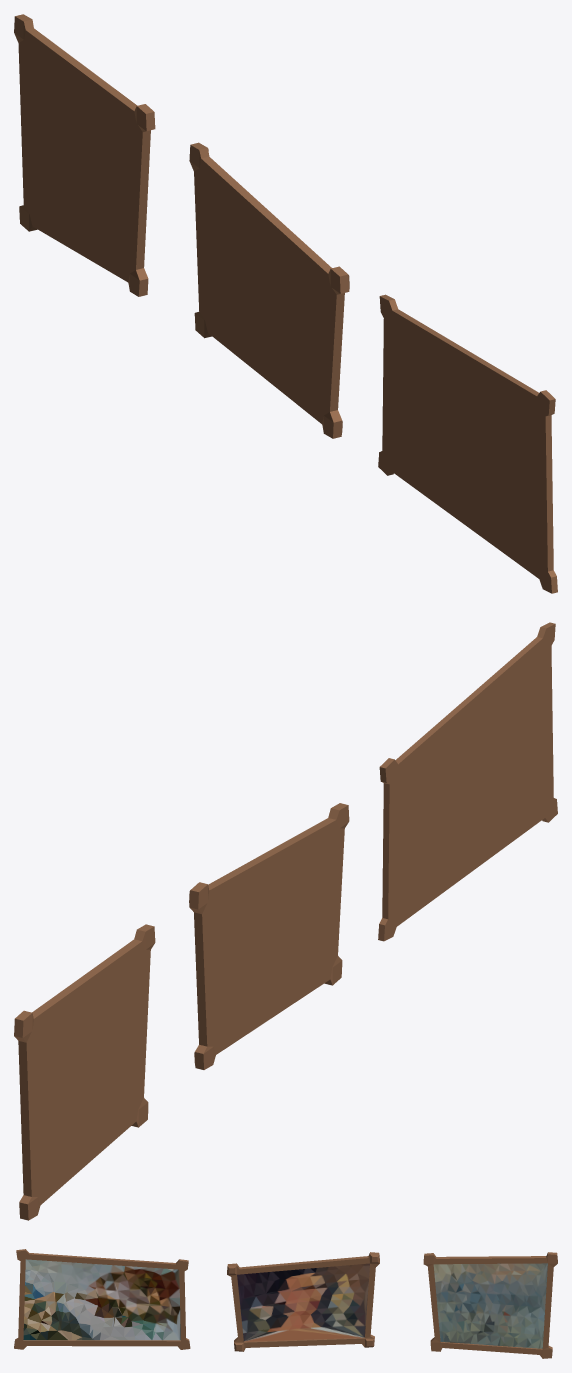
The model's file is Marcos9.fbx.
3 renders of one model, top to bottom at view 1: azimuth 30°, elevation 25°; view 2: azimuth 150°, elevation 25°; view 3: azimuth 270°, elevation 25°, orthographic. The views are drawn at different scales.
Parts seen in each view (by area): view 1: Cube.003, Cube.005, Cube.001; view 2: Cube.003, Cube.005, Cube.001; view 3: Cube.003, Cube.005, Cube.001.
Part boxes in pixels (x1=…): Cube.003: x1=378, y1=294, x2=557, y2=593; Cube.005: x1=189, y1=142, x2=349, y2=438; Cube.001: x1=14, y1=14, x2=155, y2=296; Cube.003: x1=378, y1=622, x2=557, y2=941; Cube.005: x1=189, y1=803, x2=349, y2=1069; Cube.001: x1=14, y1=924, x2=155, y2=1220; Cube.003: x1=14, y1=1249, x2=190, y2=1349; Cube.005: x1=227, y1=1252, x2=379, y2=1351; Cube.001: x1=423, y1=1252, x2=557, y2=1358.
Bounding box in the file's own units: 5.79 × 102 × 467.
